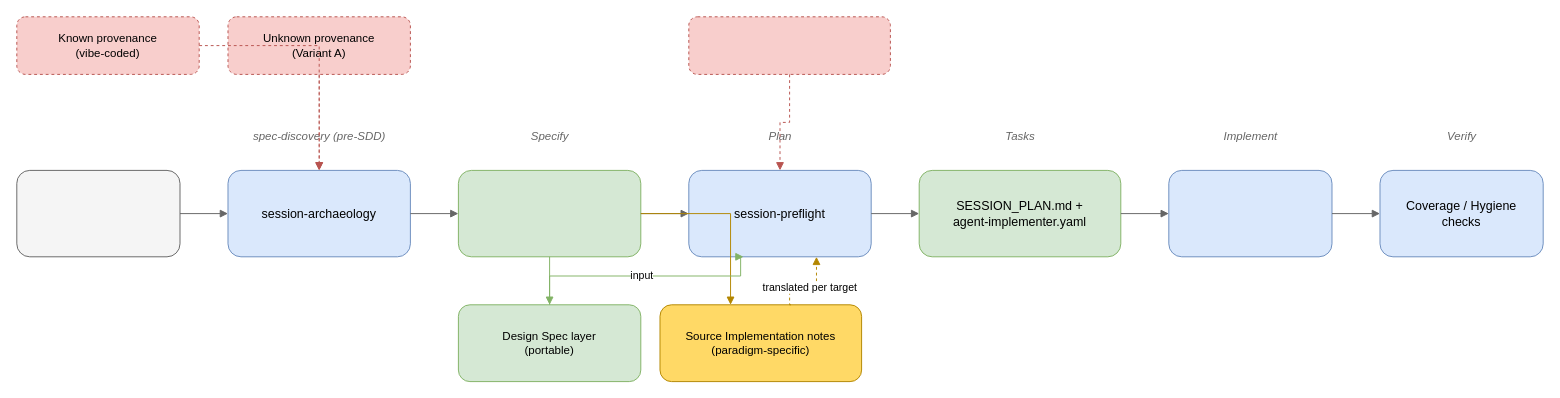
Some shapes in this 1560 by 398 pixel diagram are drawn without their labels. The shapes that lost their labels are listed below. From the top down, each one's centre as x and y in pixels, then its label:
At point (789, 45): "Target language / paradigm (Variant B input)".
At point (98, 213): "Messy Repo (existing codebase)".
At point (549, 213): "ARCHAEOLOGY_NOTES.md".
At point (1250, 213): "Coding Sessions".
